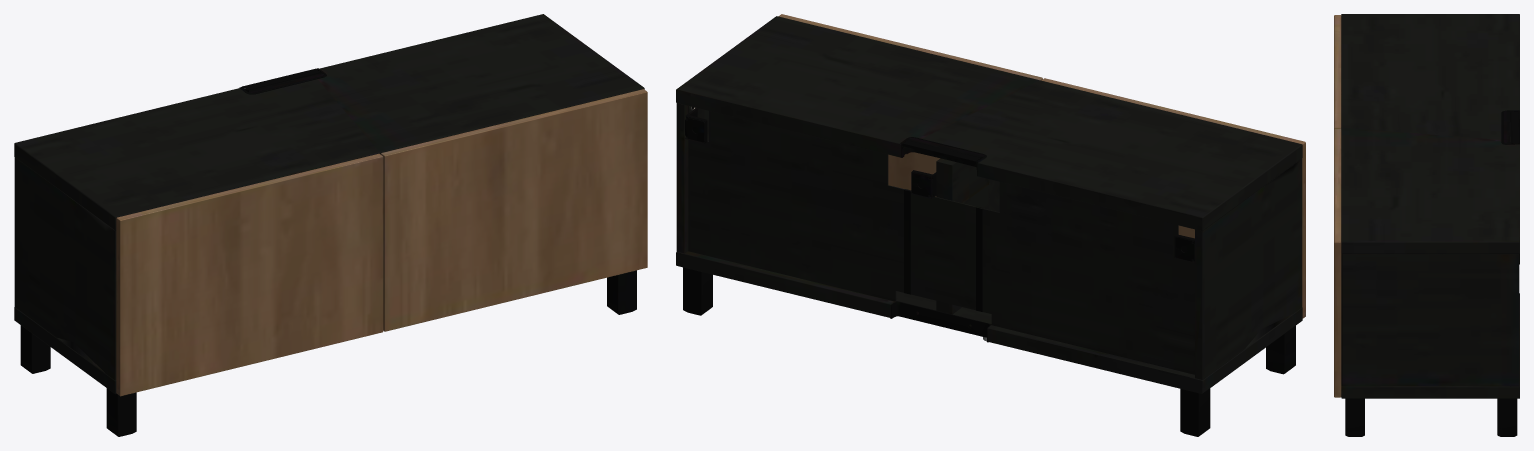
3 views of the same model, side by side, from view 1: azimuth 30°, elevation 25°; view 2: azimuth 150°, elevation 25°; view 3: azimuth 270°, elevation 25° (orthographic). The views are drawn at different scales.
Visible parts, largest first — view 1: 39612103_TV_bench_with_doors.007; view 2: 39612103_TV_bench_with_doors.007; view 3: 39612103_TV_bench_with_doors.007.
Part boxes in pixels (x1,y1,x2,y2): 39612103_TV_bench_with_doors.007: (14,14,647,436); 39612103_TV_bench_with_doors.007: (676,14,1305,436); 39612103_TV_bench_with_doors.007: (1334,14,1519,436).
Bounding box in the file's own units: 1.2 × 0.4876 × 0.4121.
Materials: 1 (1 with a texture image).
